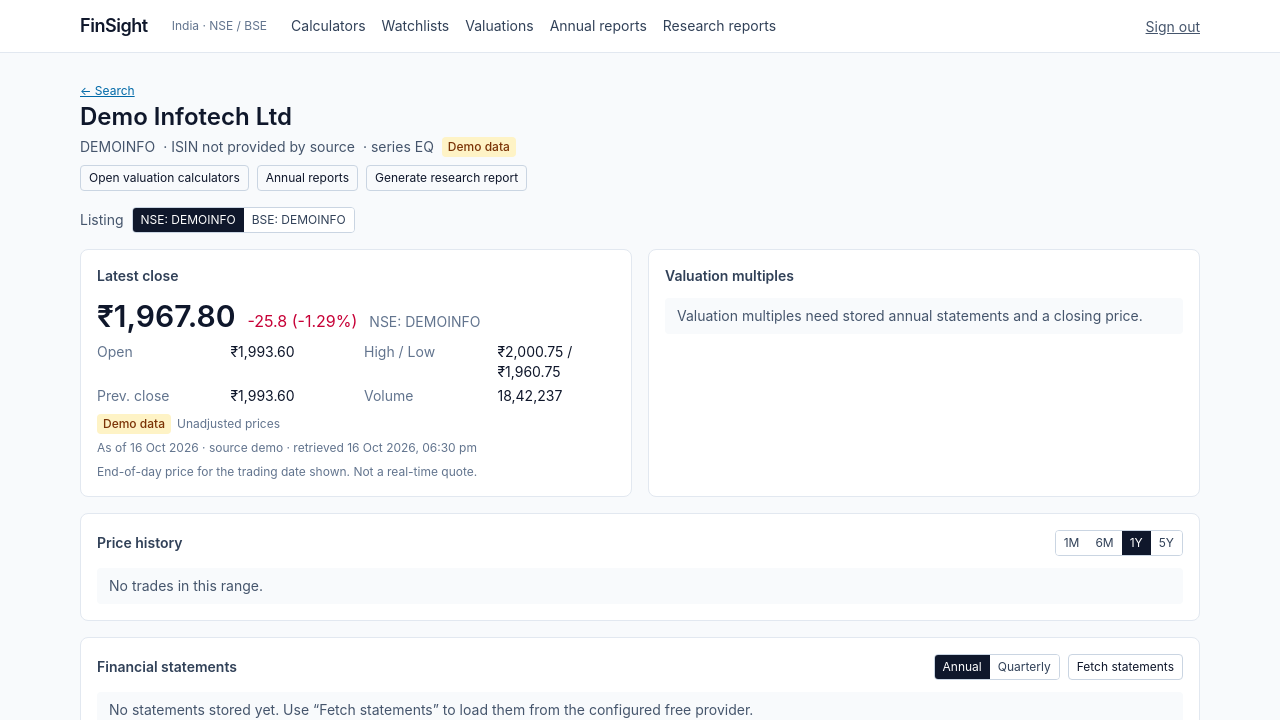
company research page › shows the listing's end-of-day close with freshness labels and switches exchange
The image size is (1280, 720).
Check: the text with test id "close-price" reads "₹1,967.80", box x1=97 y1=298 x2=236 y2=334
Check: the text "Demo data" next to "Unadjusted prices" is shown, box x1=103 y1=416 x2=165 y2=431
What coordinates should you click on to do the following:
click the button "BSE: DEMOINFO"
I would click on:
 (299, 220)
Its box is x1=244 y1=208 x2=354 y2=232.
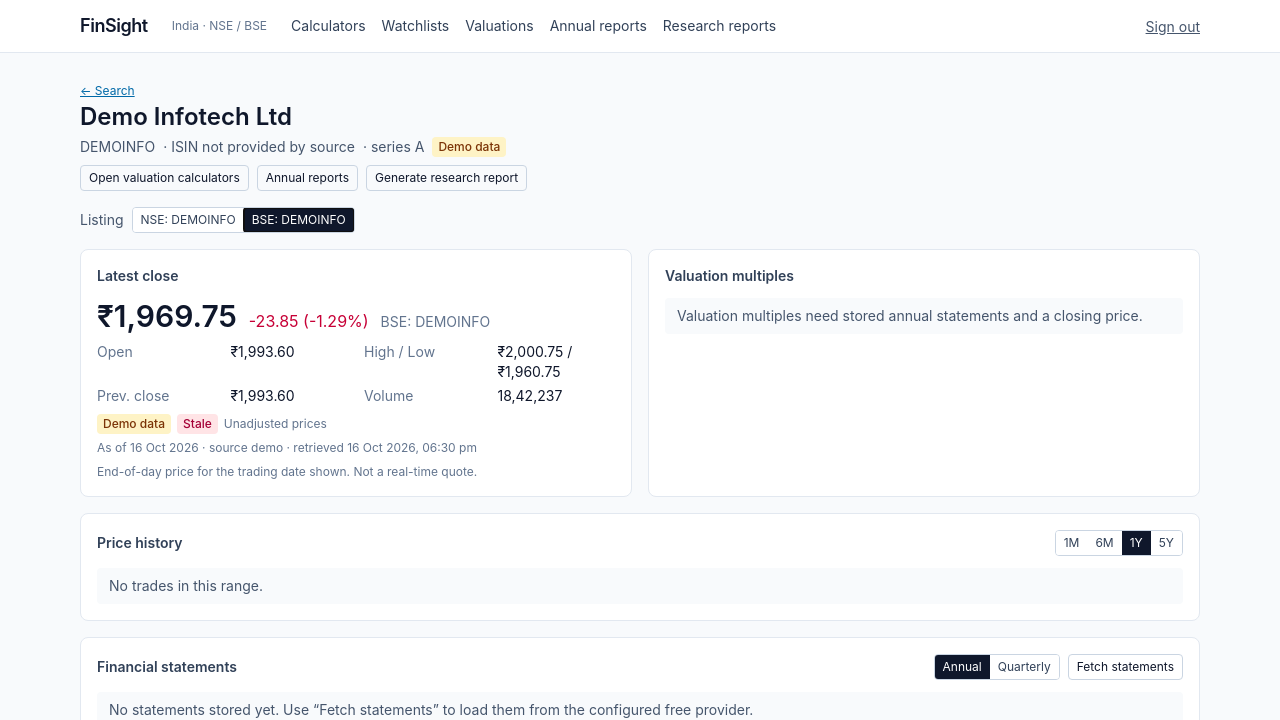
Check: the text with test id "close-price" reads "₹1,969.75", box x1=97 y1=298 x2=237 y2=334
Check: the text "Stale" is shown, box x1=177 y1=414 x2=218 y2=434
